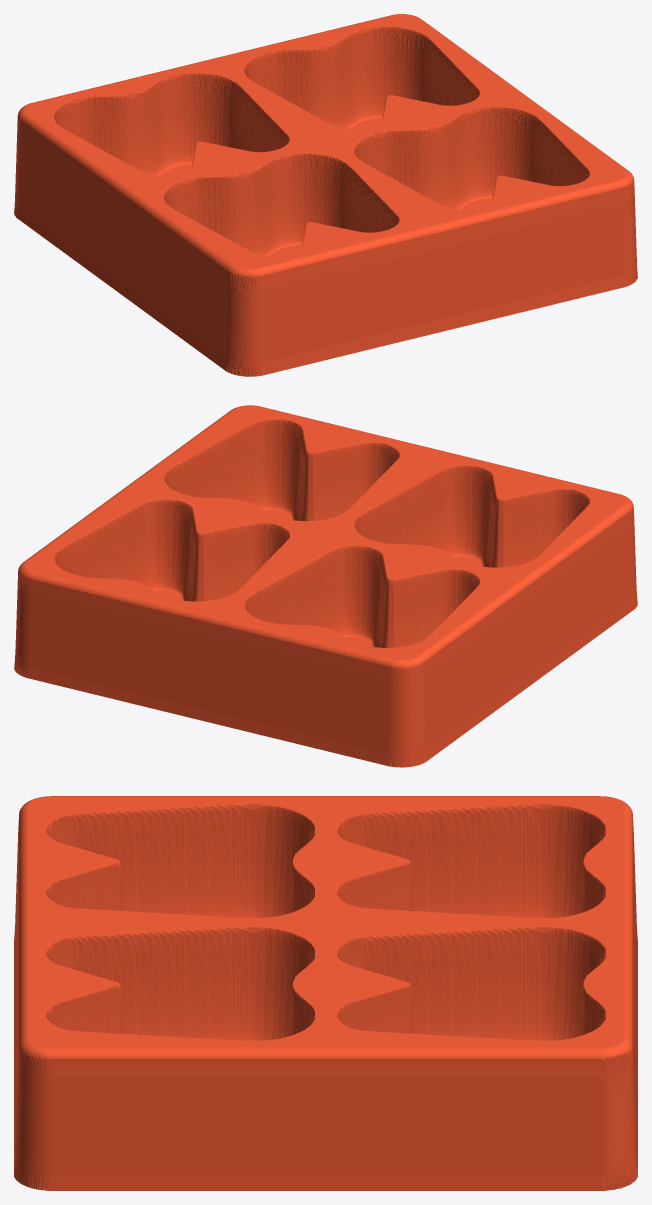
The model's file is mold.glb.
3 renders of one model, top to bottom at view 1: azimuth 30°, elevation 25°; view 2: azimuth 150°, elevation 25°; view 3: azimuth 270°, elevation 25°, orthographic. The views are drawn at different scales.
Parts seen in each view (by area): view 1: geometry_0; view 2: geometry_0; view 3: geometry_0.
Boxes of the visible parts, box(x1,y1,x2,y2) form: geometry_0: box(14, 14, 637, 376); geometry_0: box(14, 405, 637, 767); geometry_0: box(14, 796, 637, 1190).
Size of the model in its own units: 0.1493 by 0.036 by 0.1493.
